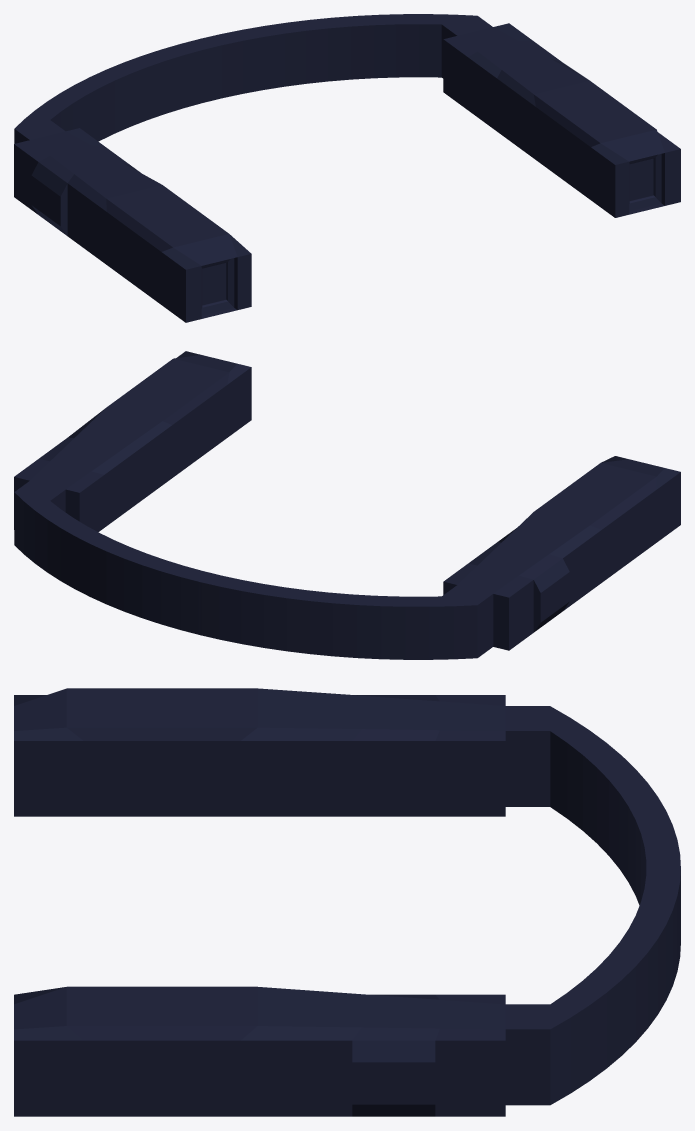
Rendered from ODMGear.fbx.
3 views of the same model, one above another, from view 1: azimuth 30°, elevation 25°; view 2: azimuth 150°, elevation 25°; view 3: azimuth 270°, elevation 25° (orthographic). The views are drawn at different scales.
Visible parts, largest first — view 1: ODMGear; view 2: ODMGear; view 3: ODMGear.
Boxes of the visible parts, x1,y1,x2,y2 form: ODMGear: [14, 14, 680, 322]; ODMGear: [14, 351, 680, 659]; ODMGear: [14, 688, 680, 1116].
Bounding box in the file's own units: 2008 × 228 × 1592.
